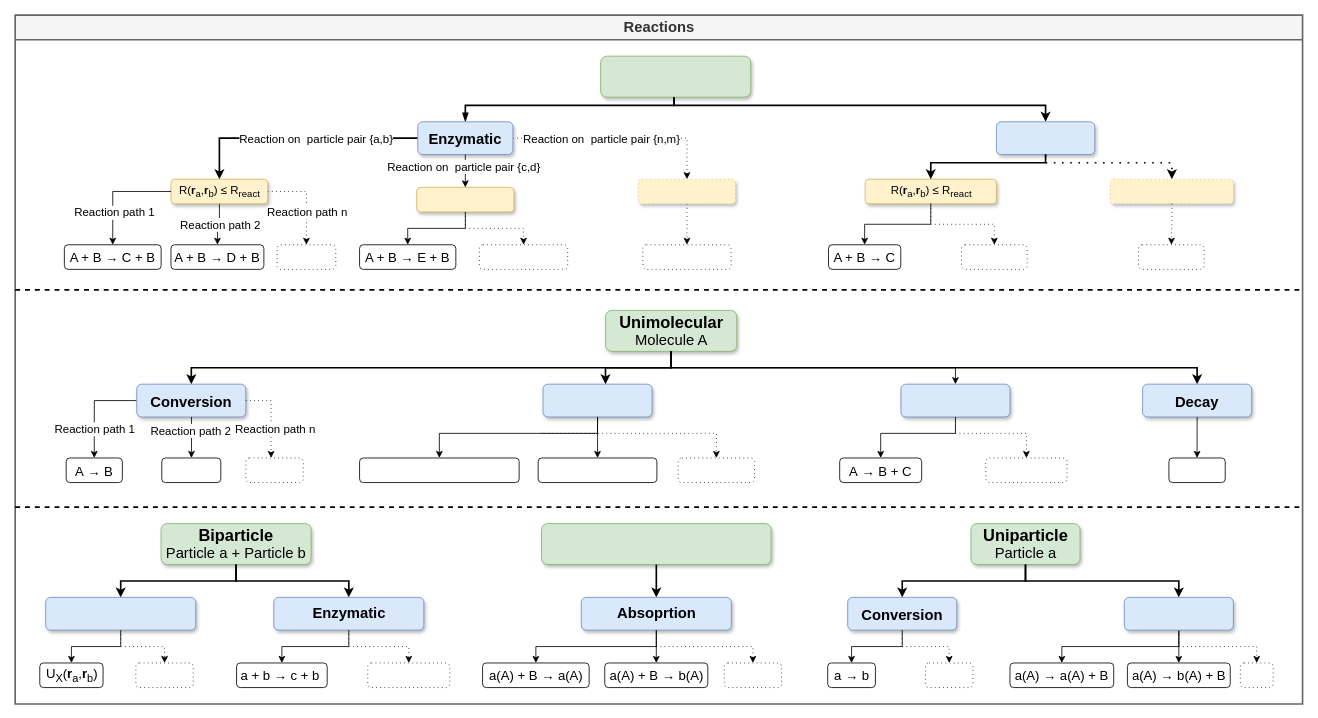
Image size: 1318x718. Some labels were removed from this diagram. The centre of each missing label's shape, as x and y in pixels:
"A → A + N B ⋅B +N C ⋅C + ..." belongs at point (439, 470).
"A → B + N C ⋅C + ..." belongs at point (597, 470).
"A → C" belongs at point (191, 470).
"A → ∅" belongs at point (1196, 470).
"Bimolecular Molecule A + Molecule B" belongs at point (676, 77).
"Bind" belongs at point (121, 614).
"Biparticle Particle a of Molecule A + Molecule B" belongs at point (656, 544).
"Fission" belongs at point (956, 401).
"Fusion" belongs at point (1046, 139).
"Production" belongs at point (598, 401).
"R( r c , r d ) ≤ R react" belongs at point (466, 200).
"Release" belongs at point (1179, 614).
